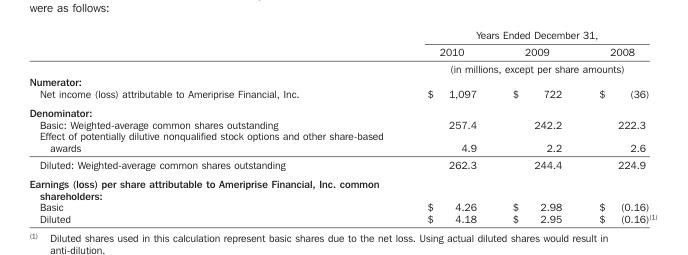table: (28, 28, 656, 224)
table column: (28, 28, 404, 224), (404, 28, 493, 224), (493, 28, 579, 224), (579, 28, 656, 224)
table column header: (28, 28, 656, 74)
table projected row header: (28, 173, 656, 200), (28, 102, 656, 118), (28, 74, 656, 87)
table row: (28, 173, 656, 200), (28, 129, 656, 155), (28, 155, 656, 173), (28, 43, 656, 59), (28, 102, 656, 118), (28, 28, 656, 43), (28, 59, 656, 74), (28, 87, 656, 102), (28, 74, 656, 87), (28, 200, 656, 212), (28, 212, 656, 224), (28, 118, 656, 129)
table spanning cell: (404, 28, 656, 43), (404, 59, 656, 74)
